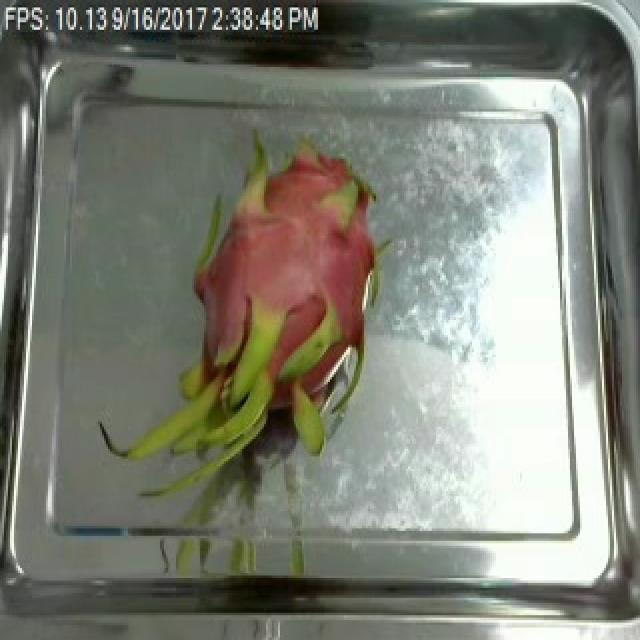fruit: (128, 112, 400, 496)
